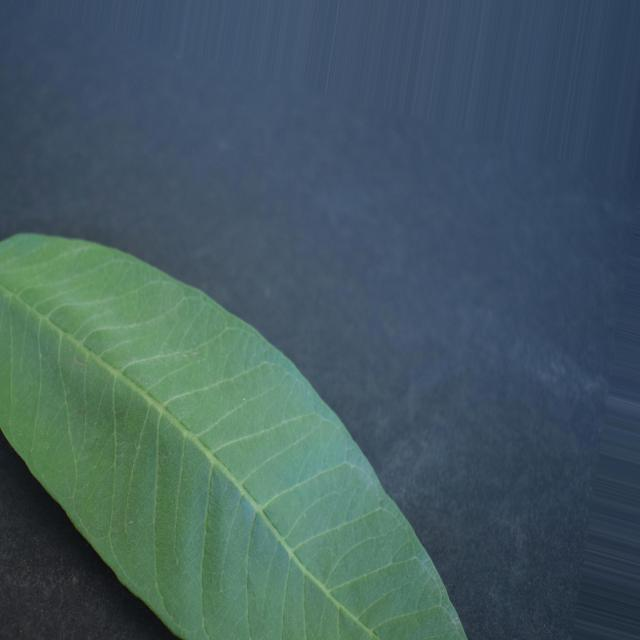Healthy: (0, 234, 465, 639)
